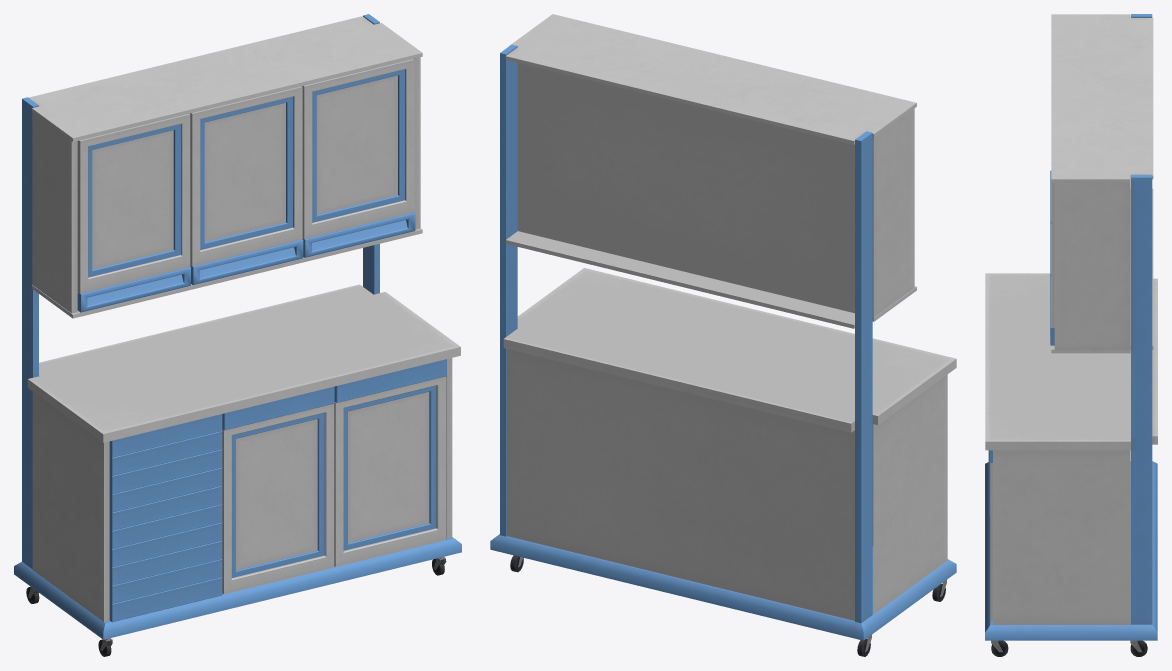
File: Caninet.fbx
The picture shows the model from 3 angles, left to right: view 1: azimuth 30°, elevation 25°; view 2: azimuth 150°, elevation 25°; view 3: azimuth 270°, elevation 25°; orthographic projection. The views are drawn at different scales.
Visible parts, largest first — view 1: Caninet; view 2: Caninet; view 3: Caninet.
Boxes of the visible parts, <box> form: Caninet: <box>14,14,461,656</box>; Caninet: <box>490,14,956,656</box>; Caninet: <box>985,14,1157,656</box>.
Bounding box in the file's own units: 150 × 200 × 64.99.
